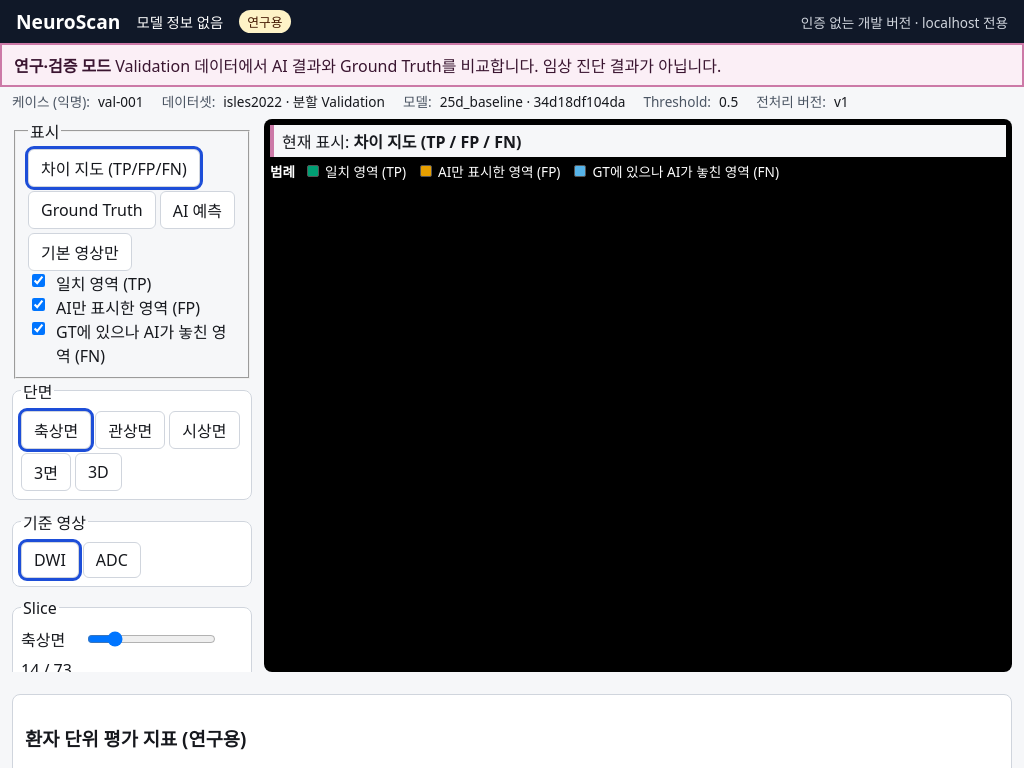
research viewer UX (P0) › AI prediction is one orange by default; region colours are an opt-in review toggle
The image size is (1024, 768).
Click the radio button labelled "AI 예측" at (197, 210), box [160, 191, 235, 229]
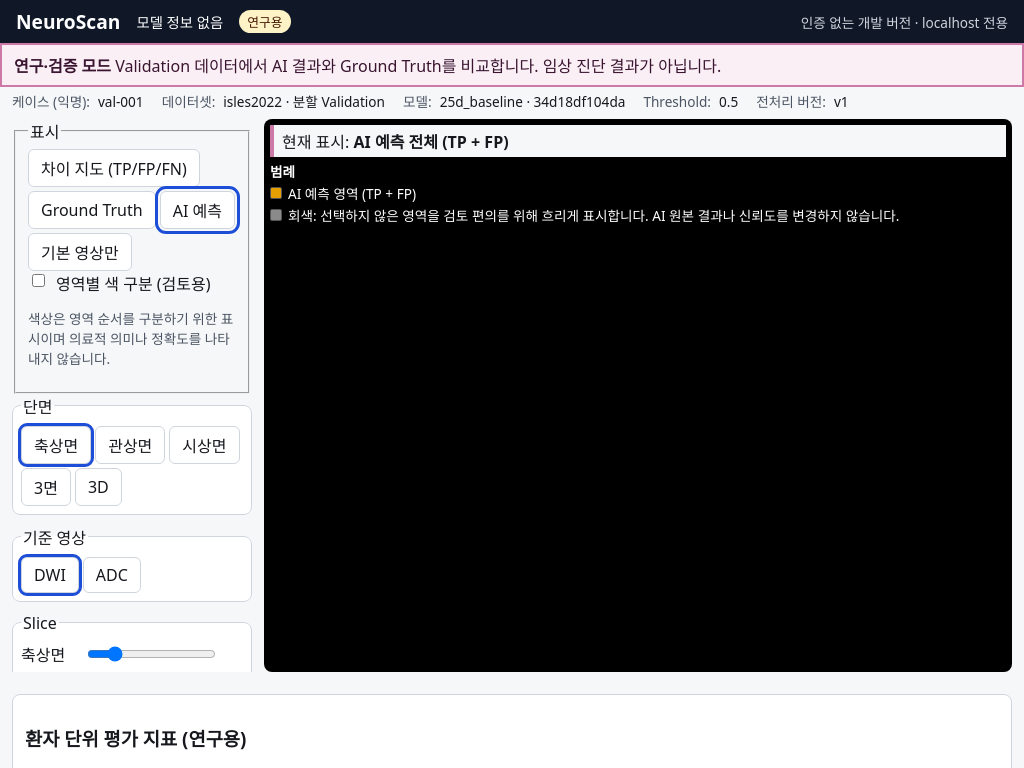
Expected: the checkbox labelled "영역별 색 구분 (검토용)" is not checked
Expected: the text "색상은 영역 순서를 구분하기 위한 표시이며 의료적 의미나 정확도를 나타내지 않습니다." is shown, [28, 308, 236, 368]
Click the checkbox labelled "영역별 색 구분 (검토용)" at (38, 280), box [32, 274, 45, 287]
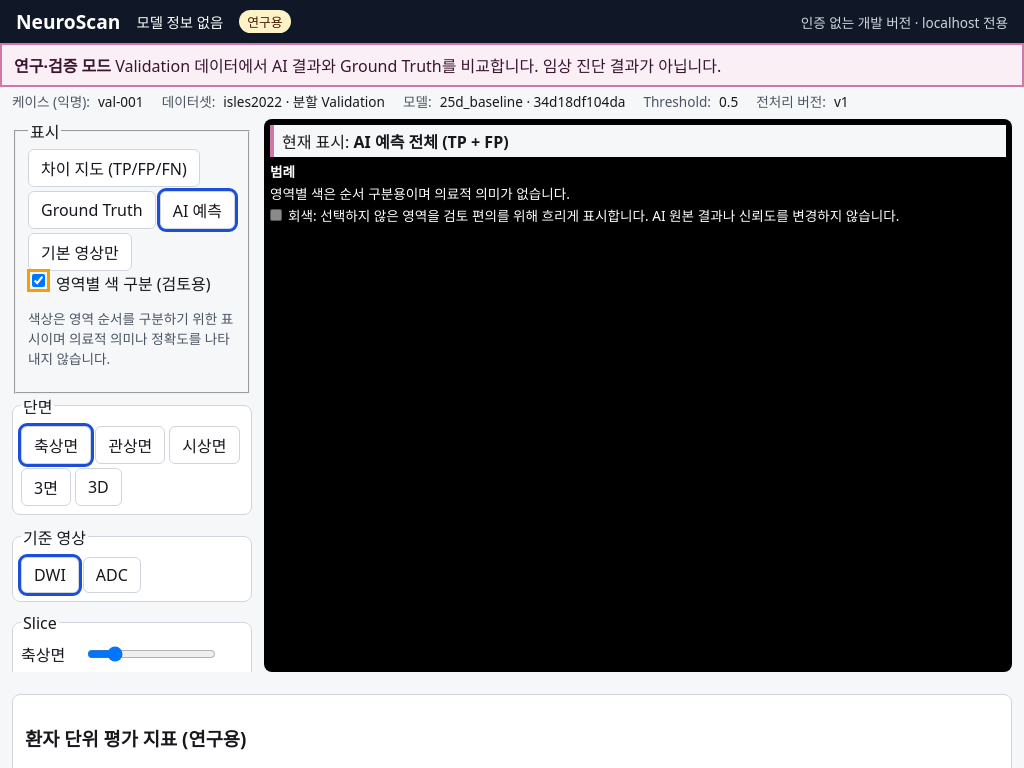
Expected: the element labelled "범례" shows "영역별 색은 순서 구분용이며 의료적 의미가 없습니다.", [270, 184, 570, 203]
